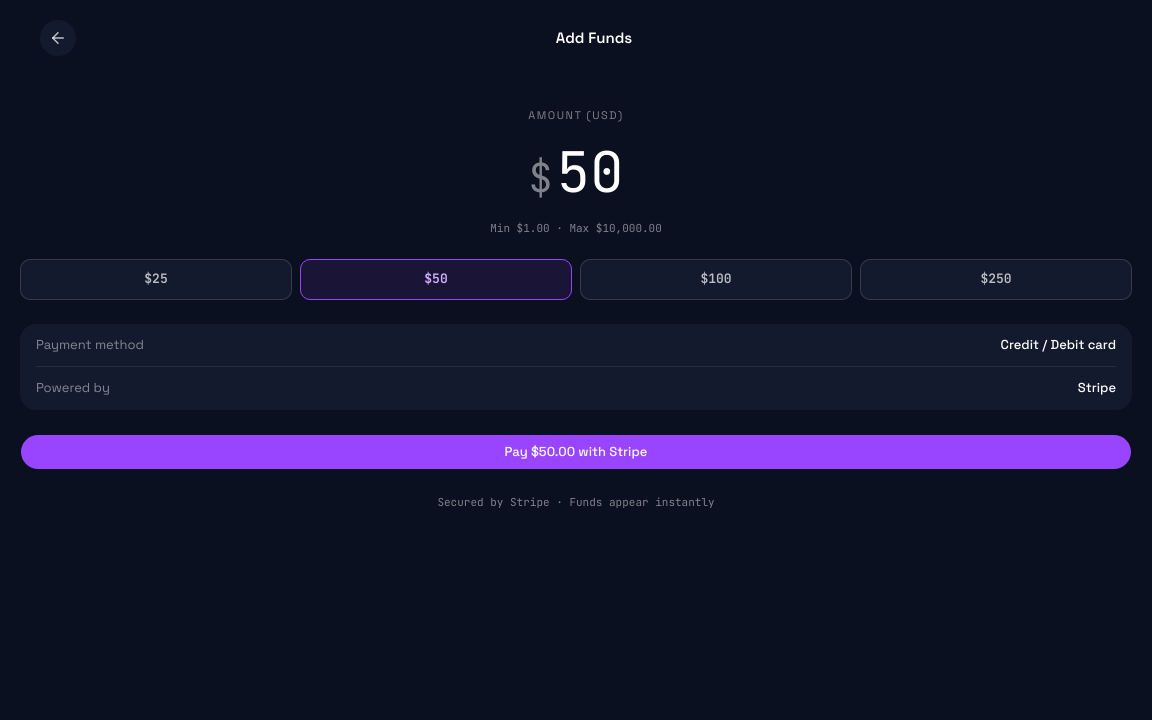
Scenario: AddFundsPage › should update amount when preset is clicked
Click the button "$100": (716, 280) [580,259,852,300]
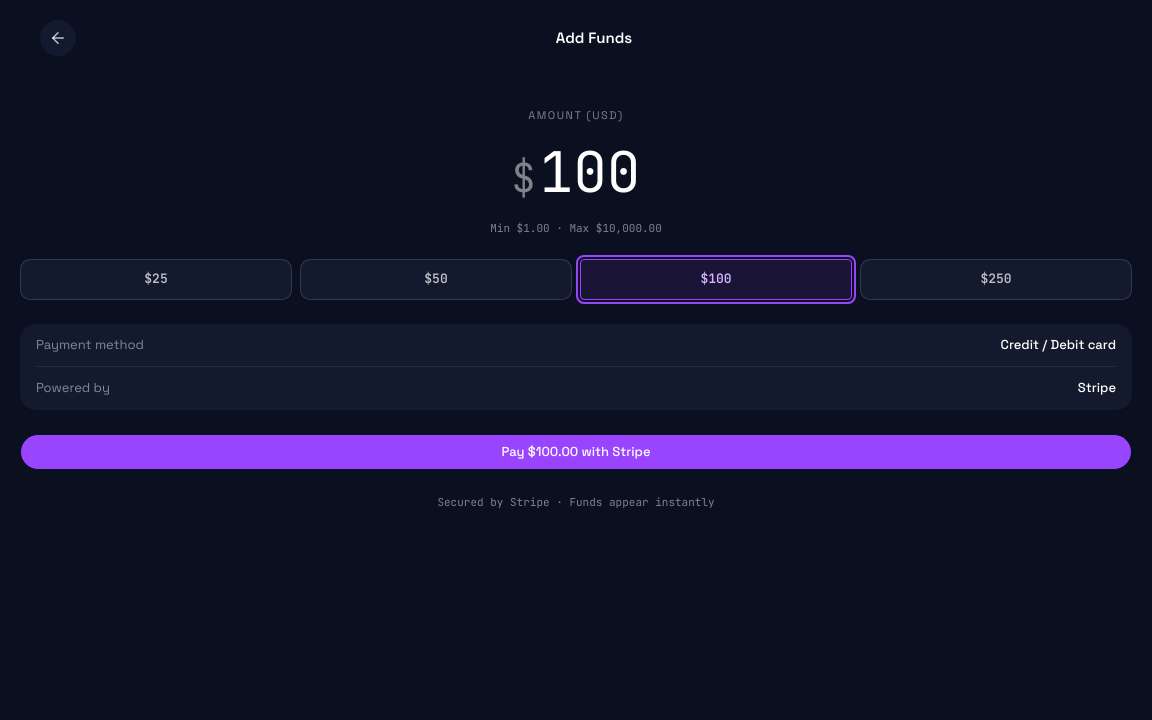
expect the field named "Amount in USD" holds "100": met, box [540,135,640,209]
